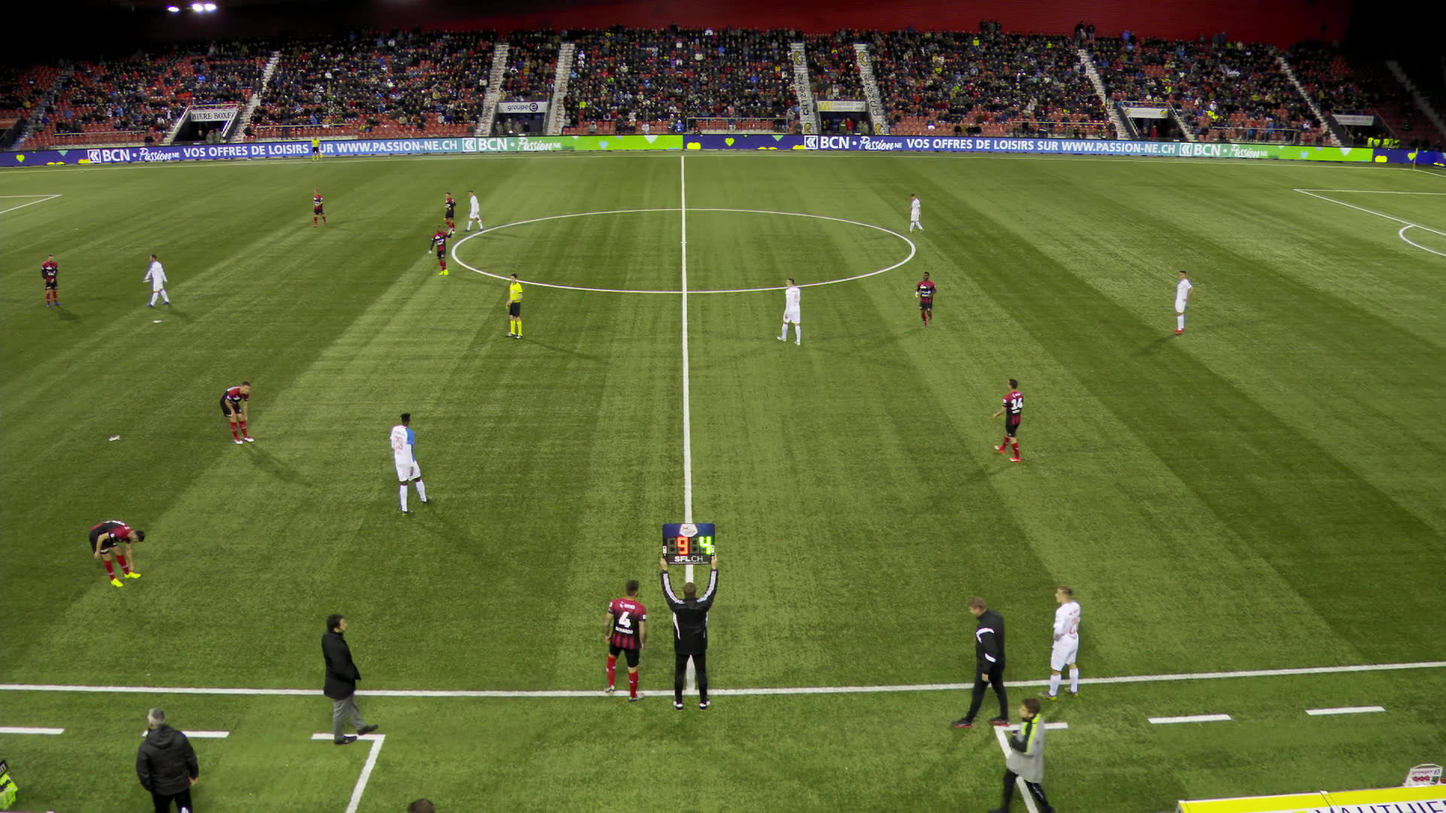player: (1038, 584, 1081, 700), (389, 413, 435, 517), (89, 519, 145, 586), (993, 379, 1024, 462), (219, 381, 254, 443), (779, 277, 802, 345), (142, 253, 169, 306), (915, 270, 936, 328), (1174, 270, 1193, 334), (430, 224, 453, 274), (41, 254, 60, 307), (465, 190, 483, 232), (907, 193, 924, 233), (444, 191, 456, 233), (313, 189, 326, 227)
referee: (504, 273, 523, 338), (312, 135, 323, 161)
